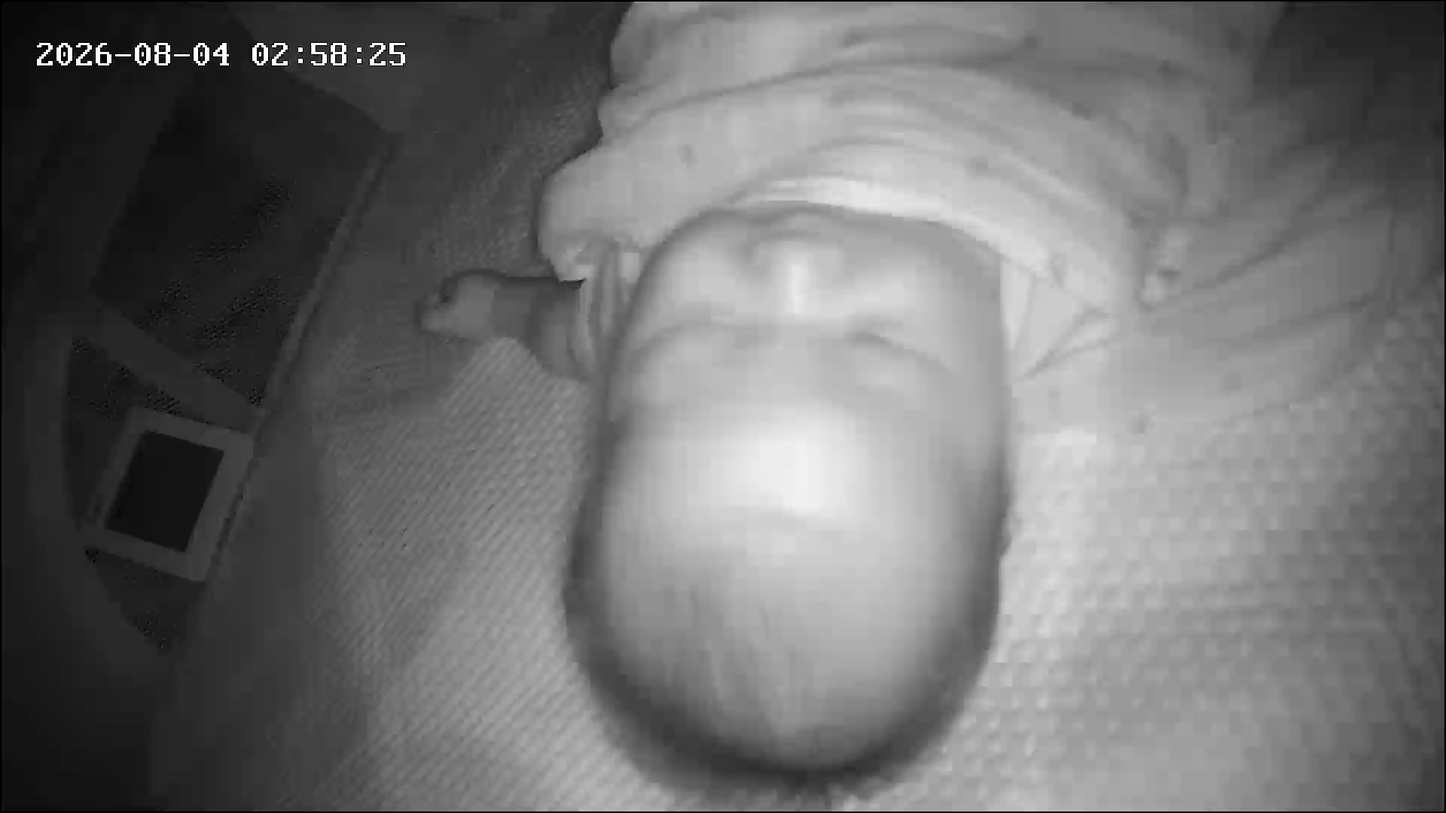baby_face: (566, 201, 1024, 791)
